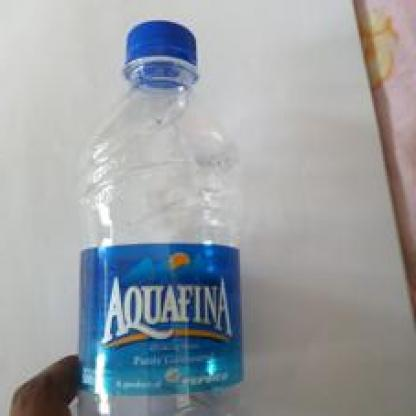bottle: (84, 29, 288, 414)
